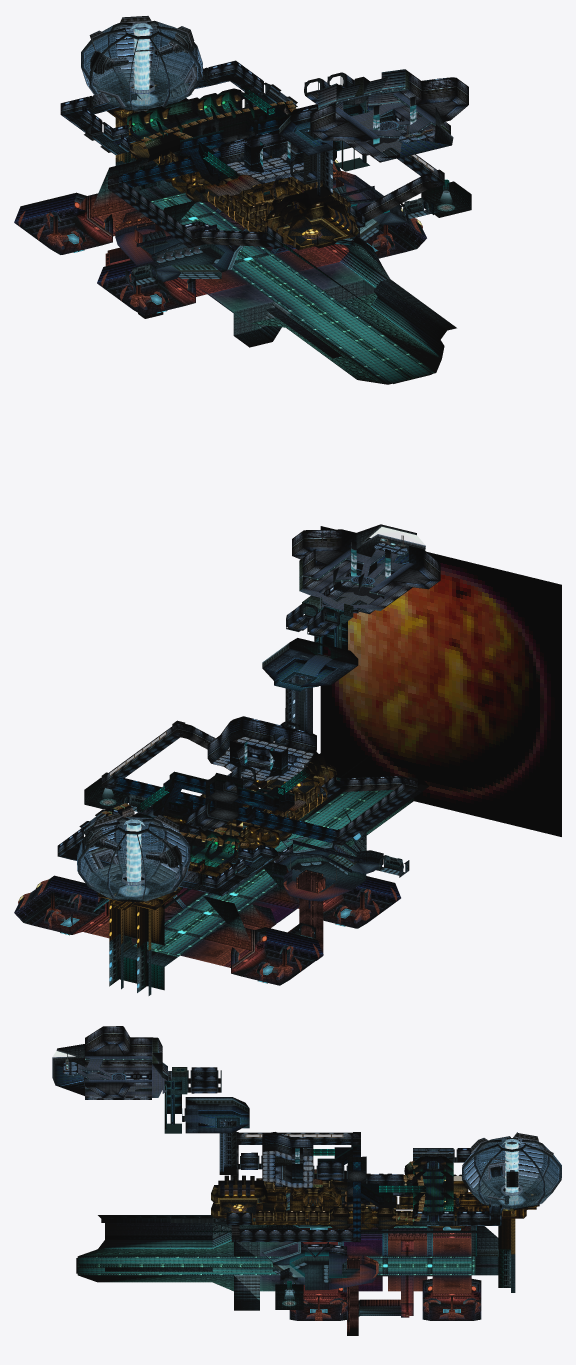
The model's file is AttackShipCovertAssault.glb.
The picture shows the model from 3 angles, top to bottom: view 1: azimuth 30°, elevation 25°; view 2: azimuth 150°, elevation 25°; view 3: azimuth 270°, elevation 25°; orthographic projection. The views are drawn at different scales.
Visible parts, largest first — view 1: AttackShipCovertAssault_22, AttackShipCovertAssault_11, AttackShipCovertAssault_8, AttackShipCovertAssault_40, AttackShipCovertAssault_16, AttackShipCovertAssault_21, AttackShipCovertAssault_24, AttackShipCovertAssault_42, AttackShipCovertAssault_7, AttackShipCovertAssault_41, AttackShipCovertAssault_69, AttackShipCovertAssault_19 (+28 smaller); view 2: AttackShipCovertAssault_107, AttackShipCovertAssault_106, AttackShipCovertAssault_105, AttackShipCovertAssault_22, AttackShipCovertAssault_11, AttackShipCovertAssault_8, AttackShipCovertAssault_108, AttackShipCovertAssault_69, AttackShipCovertAssault_7, AttackShipCovertAssault_16, AttackShipCovertAssault_40, AttackShipCovertAssault_41 (+29 smaller); view 3: AttackShipCovertAssault_22, AttackShipCovertAssault_11, AttackShipCovertAssault_8, AttackShipCovertAssault_21, AttackShipCovertAssault_16, AttackShipCovertAssault_42, AttackShipCovertAssault_40, AttackShipCovertAssault_7, AttackShipCovertAssault_19, AttackShipCovertAssault_51, AttackShipCovertAssault_41, AttackShipCovertAssault_24 (+29 smaller).
Part boxes in pixels (bbox=[...]): AttackShipCovertAssault_22: bbox=[35, 72, 456, 358]; AttackShipCovertAssault_11: bbox=[60, 64, 468, 248]; AttackShipCovertAssault_8: bbox=[60, 68, 468, 251]; AttackShipCovertAssault_40: bbox=[153, 195, 431, 383]; AttackShipCovertAssault_16: bbox=[83, 86, 435, 384]; AttackShipCovertAssault_21: bbox=[91, 163, 446, 384]; AttackShipCovertAssault_24: bbox=[14, 69, 444, 358]; AttackShipCovertAssault_42: bbox=[97, 92, 426, 311]; AttackShipCovertAssault_7: bbox=[115, 92, 435, 281]; AttackShipCovertAssault_41: bbox=[24, 16, 449, 315]; AttackShipCovertAssault_69: bbox=[108, 82, 468, 246]; AttackShipCovertAssault_19: bbox=[74, 33, 471, 341]; AttackShipCovertAssault_107: bbox=[441, 555, 561, 710]; AttackShipCovertAssault_106: bbox=[441, 681, 561, 836]; AttackShipCovertAssault_105: bbox=[320, 653, 441, 807]; AttackShipCovertAssault_22: bbox=[34, 524, 428, 985]; AttackShipCovertAssault_11: bbox=[57, 546, 440, 883]; AttackShipCovertAssault_8: bbox=[57, 537, 440, 896]; AttackShipCovertAssault_108: bbox=[320, 526, 441, 681]; AttackShipCovertAssault_69: bbox=[101, 529, 440, 833]; AttackShipCovertAssault_7: bbox=[147, 548, 414, 901]; AttackShipCovertAssault_16: bbox=[78, 546, 408, 969]; AttackShipCovertAssault_40: bbox=[108, 790, 393, 955]; AttackShipCovertAssault_41: bbox=[24, 582, 391, 985]; AttackShipCovertAssault_22: bbox=[53, 1044, 539, 1320]; AttackShipCovertAssault_11: bbox=[85, 1040, 488, 1252]; AttackShipCovertAssault_8: bbox=[55, 1032, 502, 1255]; AttackShipCovertAssault_21: bbox=[78, 1200, 427, 1310]; AttackShipCovertAssault_16: bbox=[67, 1052, 515, 1316]; AttackShipCovertAssault_42: bbox=[260, 1198, 471, 1293]; AttackShipCovertAssault_40: bbox=[76, 1226, 476, 1273]; AttackShipCovertAssault_7: bbox=[78, 1055, 375, 1289]; AttackShipCovertAssault_19: bbox=[52, 1048, 518, 1306]; AttackShipCovertAssault_51: bbox=[211, 1180, 536, 1224]; AttackShipCovertAssault_41: bbox=[98, 1071, 553, 1320]; AttackShipCovertAssault_24: bbox=[68, 1038, 427, 1249].
Size of the model in its own units: 907 by 827 by 1610.
Materials: 109 (109 with a texture image).
